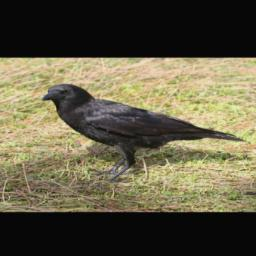Crow: (44, 83, 251, 184)
